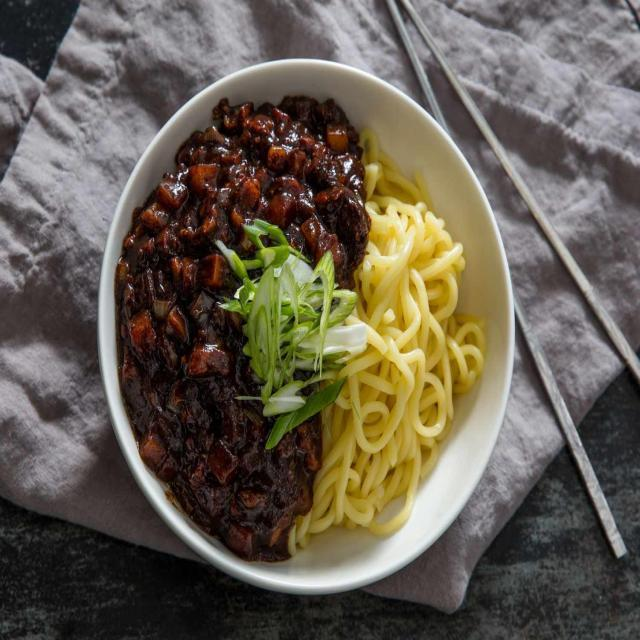cac loai rau cu: (211, 211, 373, 449), (154, 233, 207, 290), (198, 424, 245, 487), (139, 417, 179, 487), (248, 475, 288, 533), (167, 290, 203, 354), (154, 366, 191, 413), (125, 298, 161, 346), (206, 332, 241, 377), (185, 160, 222, 200), (211, 241, 239, 292), (317, 114, 350, 155), (263, 135, 304, 167), (140, 196, 172, 233)
mi jajangmyeon: (285, 114, 487, 557)
mi tuong den Jajangmyeon: (110, 88, 489, 575)
sot tuong den: (142, 113, 263, 567), (180, 98, 355, 240)
